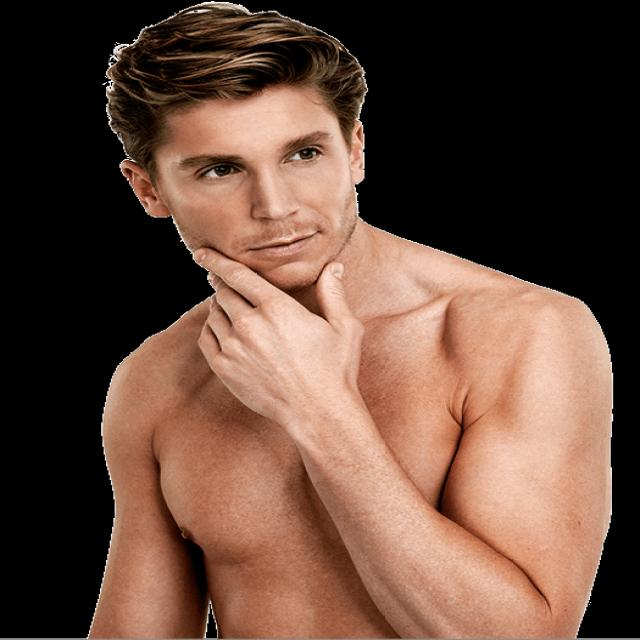mobile_phonerotation: (86, 2, 614, 637)
